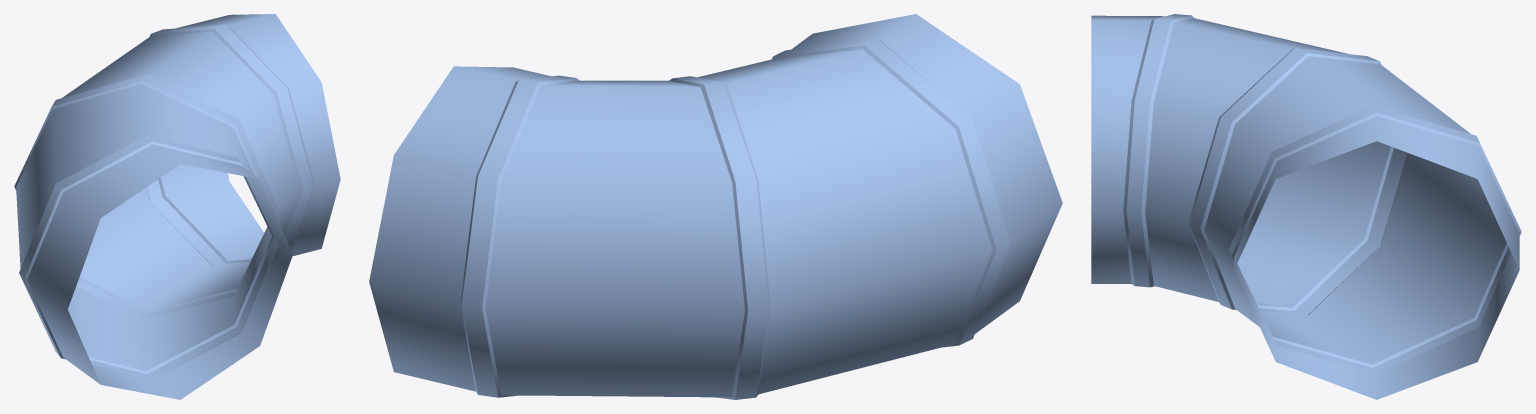
File: PipeSmall_Stepped_Bent_01.fbx
3 renders of one model, left to right at view 1: azimuth 30°, elevation 25°; view 2: azimuth 150°, elevation 25°; view 3: azimuth 270°, elevation 25°, orthographic. The views are drawn at different scales.
Visible parts, largest first — view 1: PipeSmall_Stepped_Bent_01.001; view 2: PipeSmall_Stepped_Bent_01.001; view 3: PipeSmall_Stepped_Bent_01.001.
Boxes of the visible parts, bbox=[...] form: PipeSmall_Stepped_Bent_01.001: bbox=[14, 14, 340, 399]; PipeSmall_Stepped_Bent_01.001: bbox=[369, 14, 1062, 399]; PipeSmall_Stepped_Bent_01.001: bbox=[1091, 14, 1521, 399].
Bounding box in the file's own units: 0.1508 × 0.1016 × 0.1508.
